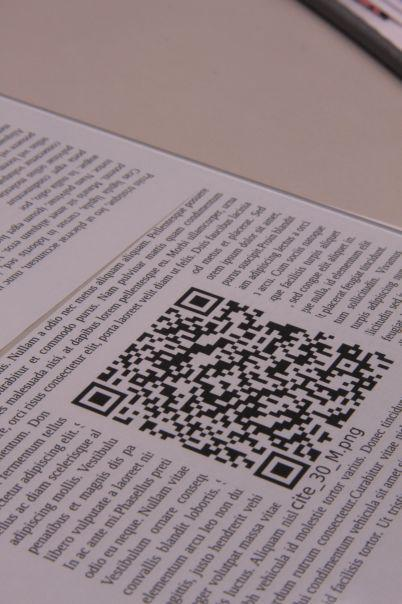Finder pattern: (253, 447, 313, 491), (69, 380, 129, 420), (173, 286, 228, 319)
